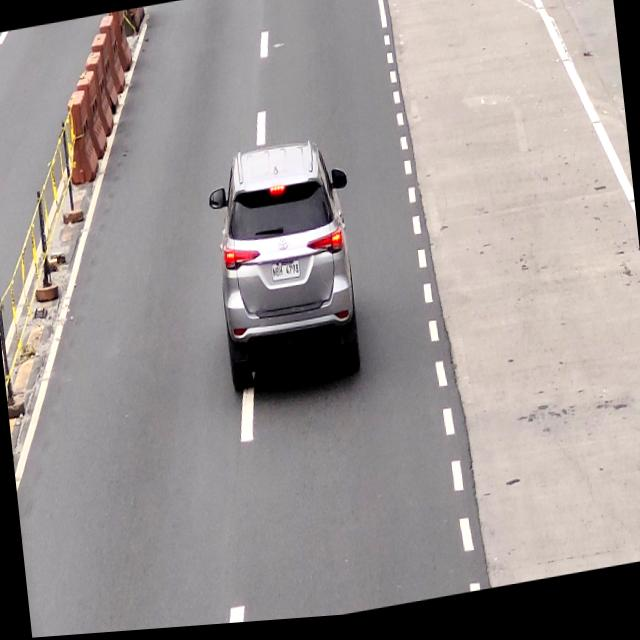Car: (206, 140, 367, 406)
License-Plate: (268, 262, 302, 288)
